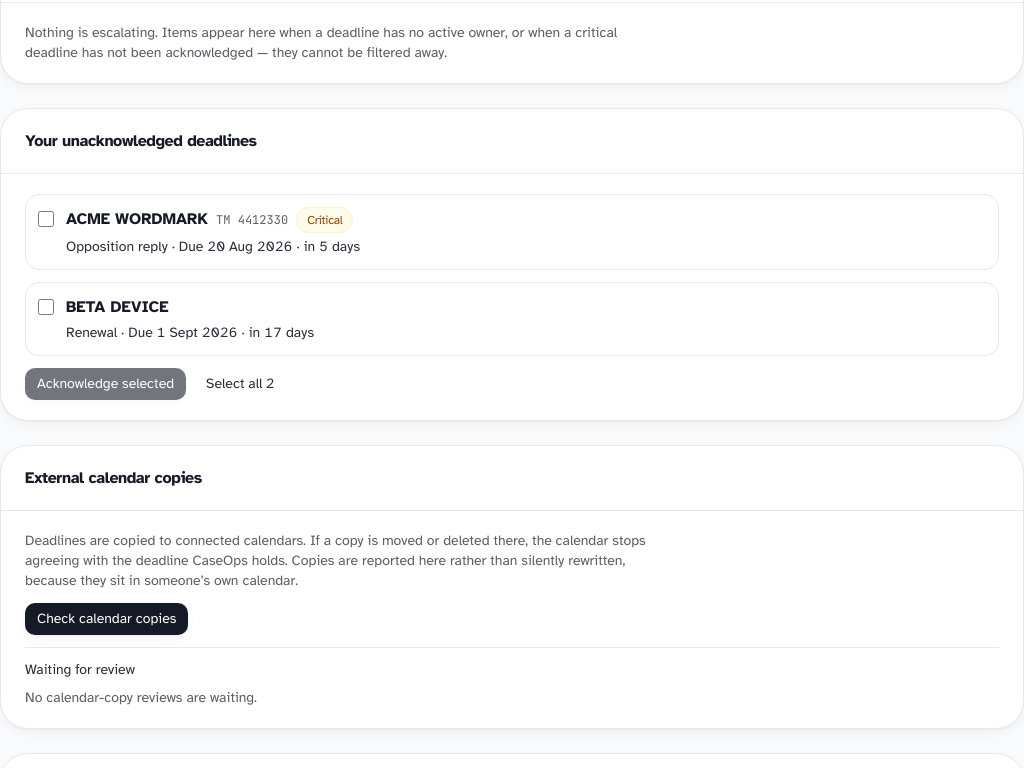
Test: IpDailyDocketPage › acknowledges selected deadlines and names every one it could not
(page scrolled)
Expected: the element with test id "ip-docket-ack-cov-1" is shown, x1=25 y1=194 x2=999 y2=270
Note: Soonest first, and the version each row was read at is fenced.
Click the button "Select all 2".
click(240, 384)  # box x1=194 y1=368 x2=286 y2=400
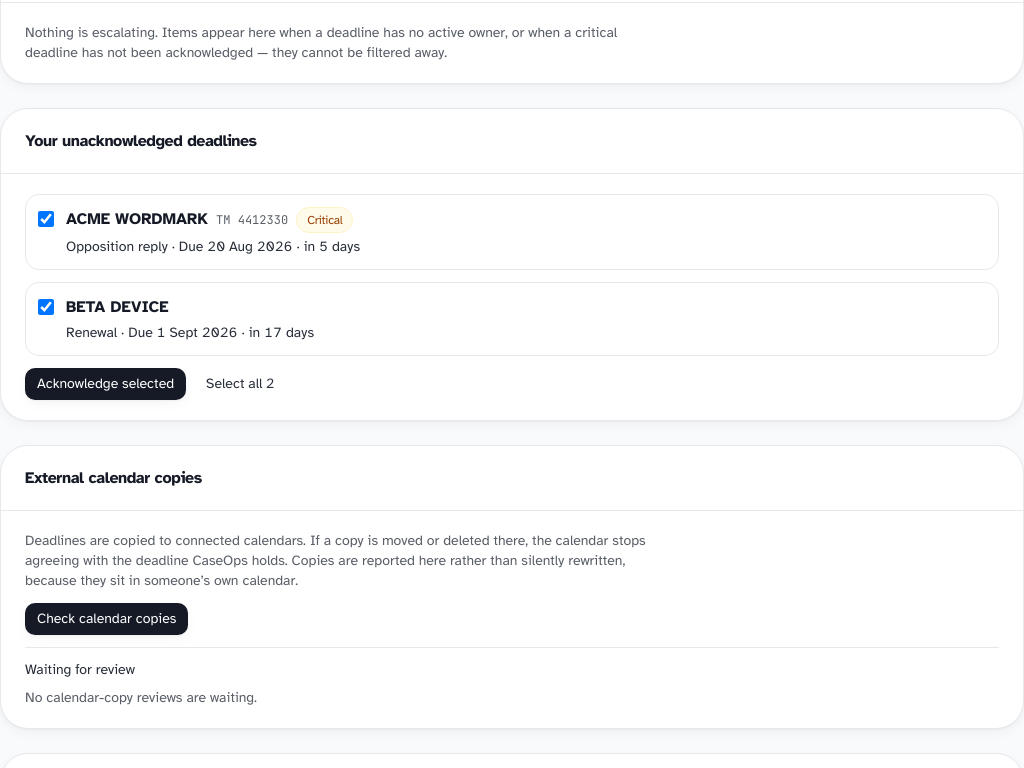
Click the button "Acknowledge selected".
click(106, 384)  # box x1=25 y1=368 x2=186 y2=400
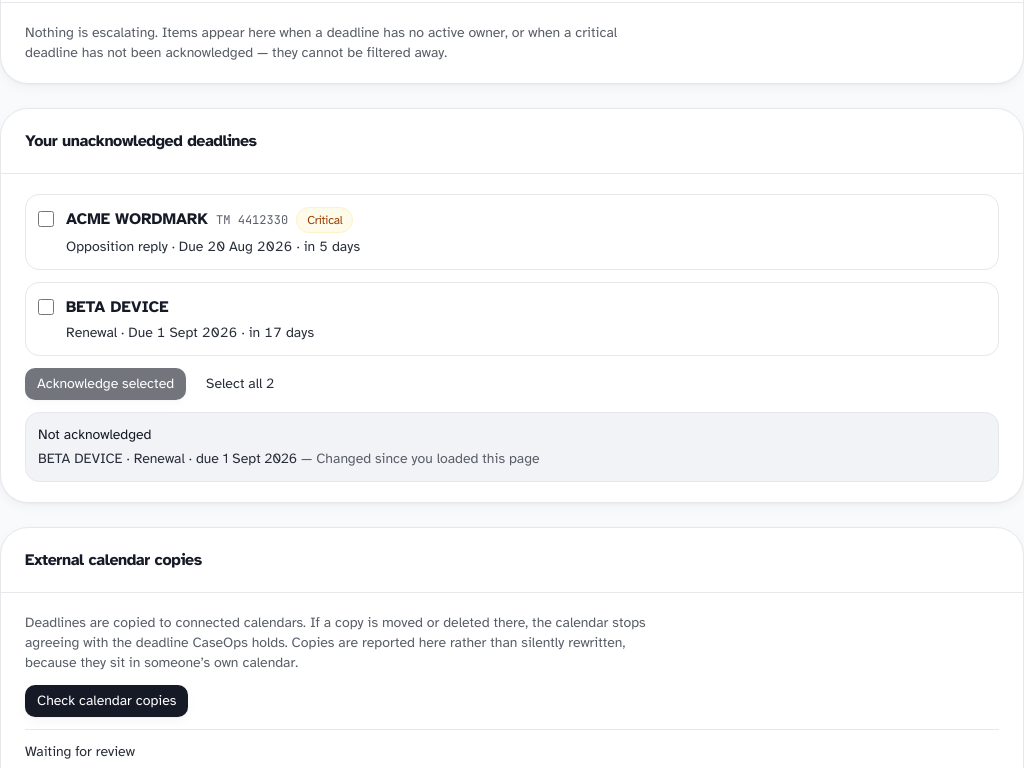
Result: the text "BETA DEVICE · Renewal · due 1 Sept 2026" is shown at x1=38 y1=450 x2=297 y2=467
Result: the list item "Changed since you loaded this page" is shown at x1=316 y1=450 x2=540 y2=467
